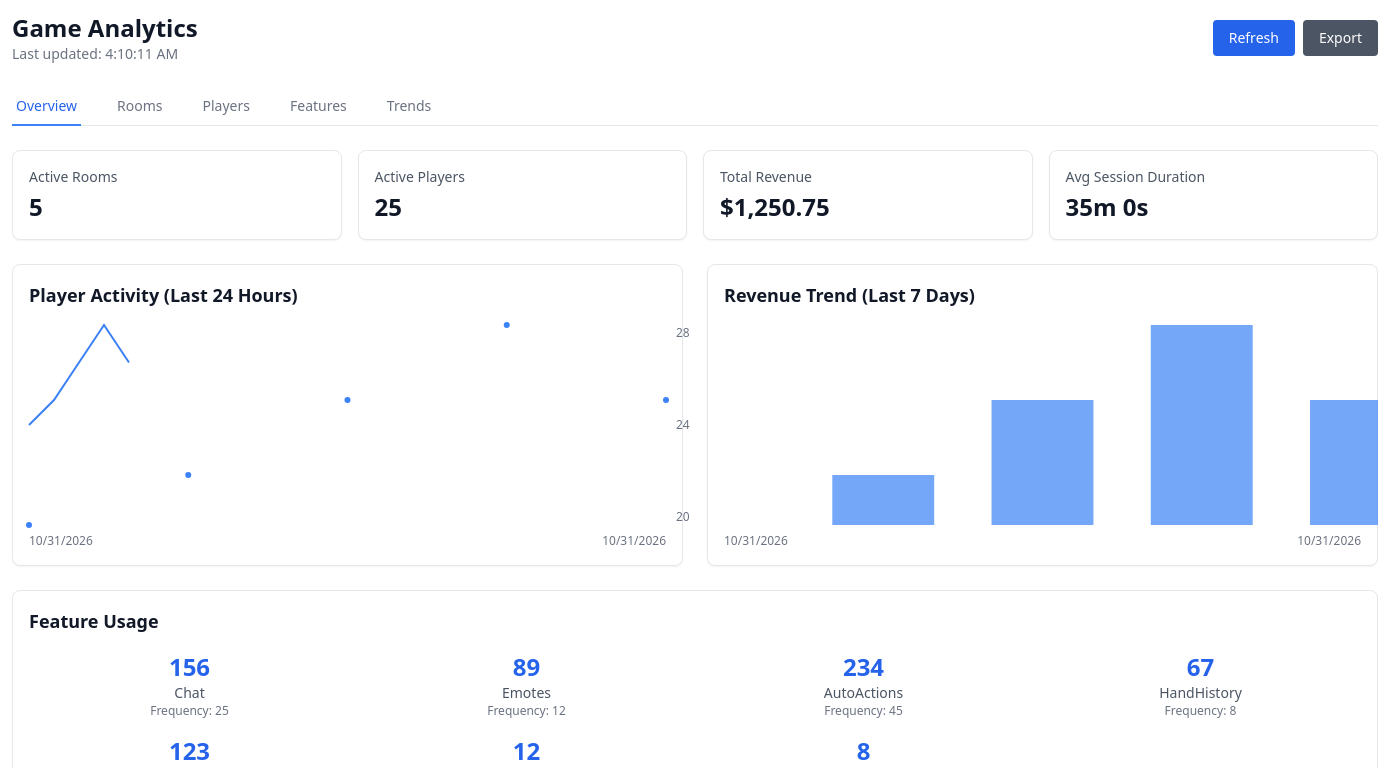
Scenario: GameAnalyticsDashboard › Trends Tab Content › should show advanced metrics when enabled
Click the button "Trends" at (409,107), box top-left (383, 88), bottom-right (435, 126)
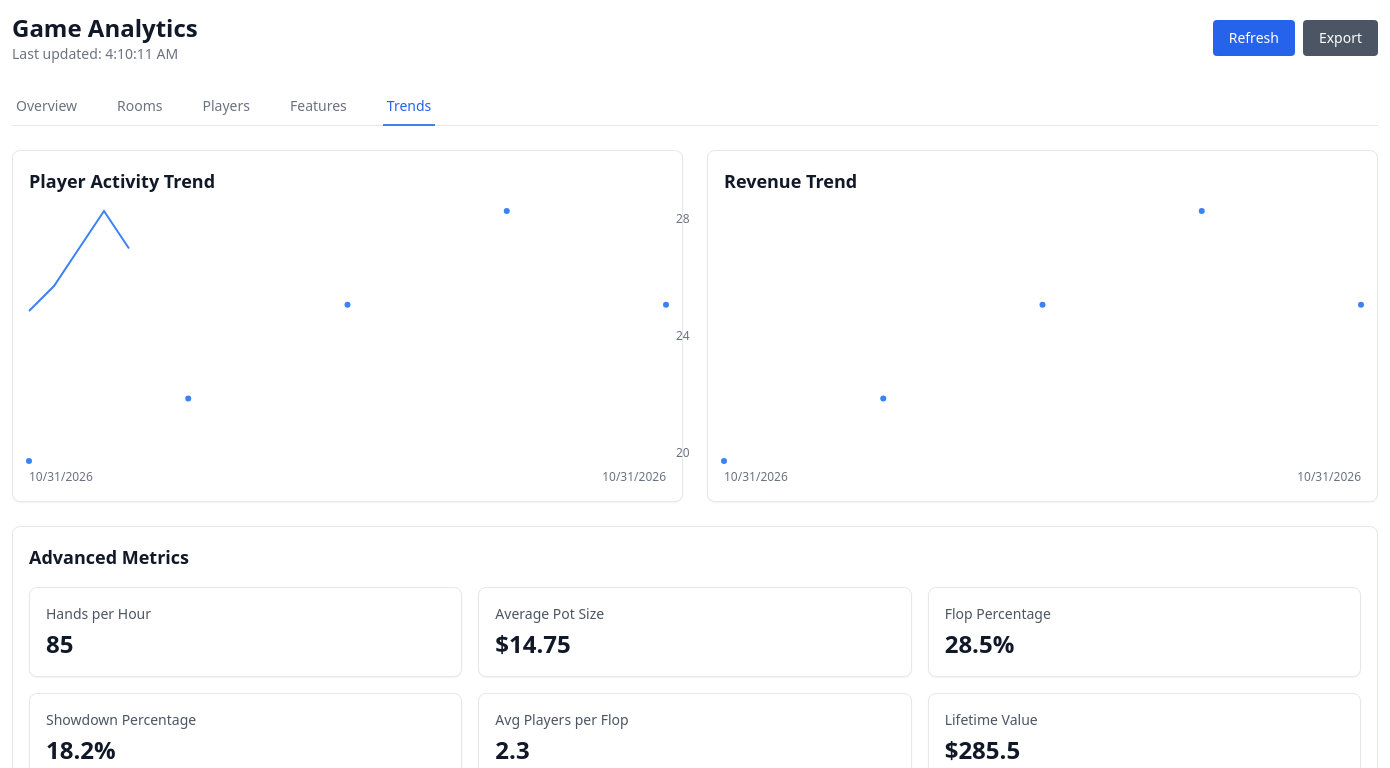
Now the heading "Advanced Metrics" is shown, box top-left (29, 545), bottom-right (189, 569)
Now the text "Hands per Hour" is shown, box top-left (46, 604), bottom-right (151, 623)
Now the text "Average Pot Size" is shown, box top-left (495, 604), bottom-right (604, 623)
